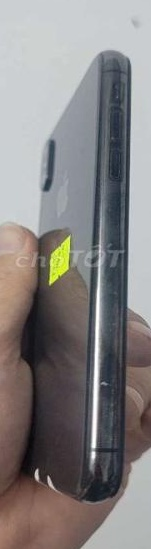scratch: (82, 367, 125, 400), (108, 125, 119, 146)
